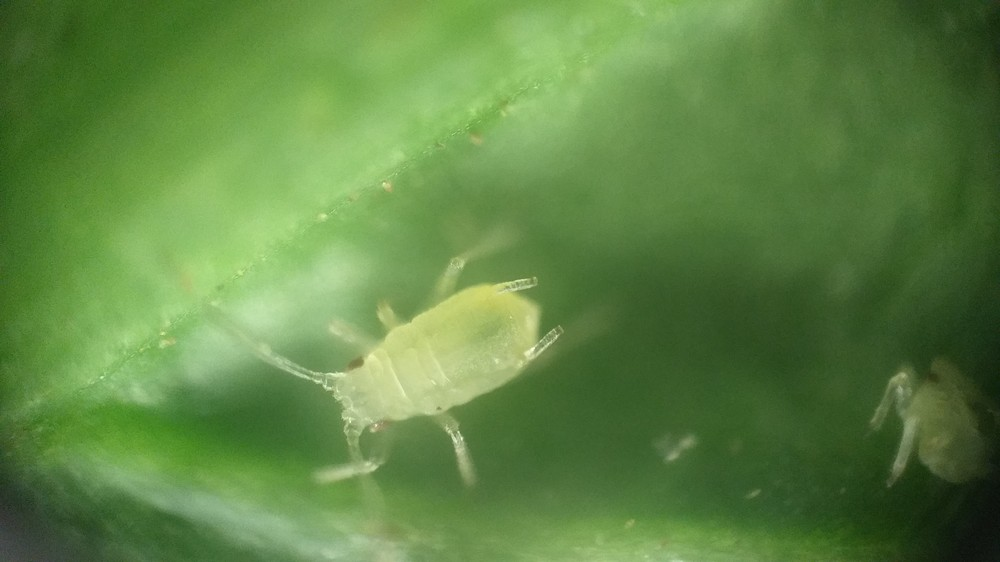Pulgon: (260, 222, 574, 508), (849, 335, 999, 522)
